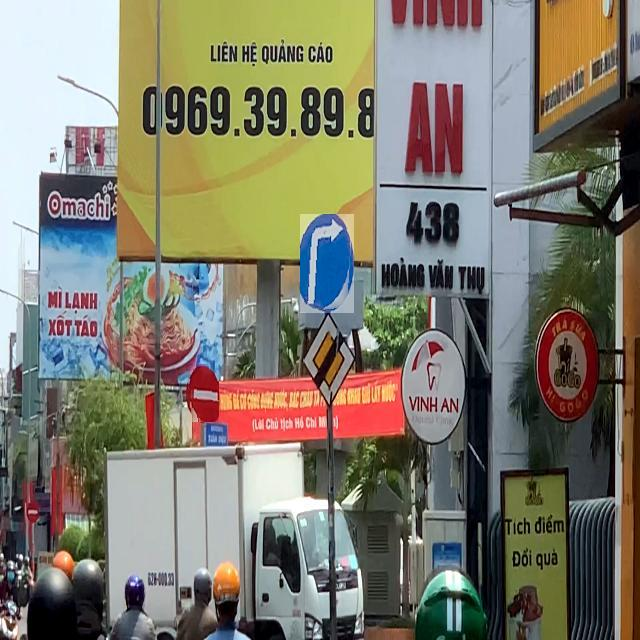P-102: (186, 365, 219, 423)
R-301d: (300, 214, 354, 313)
